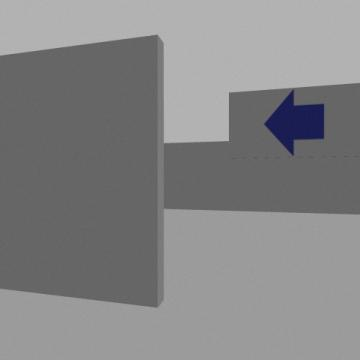blue_left: (264, 90, 324, 155)
